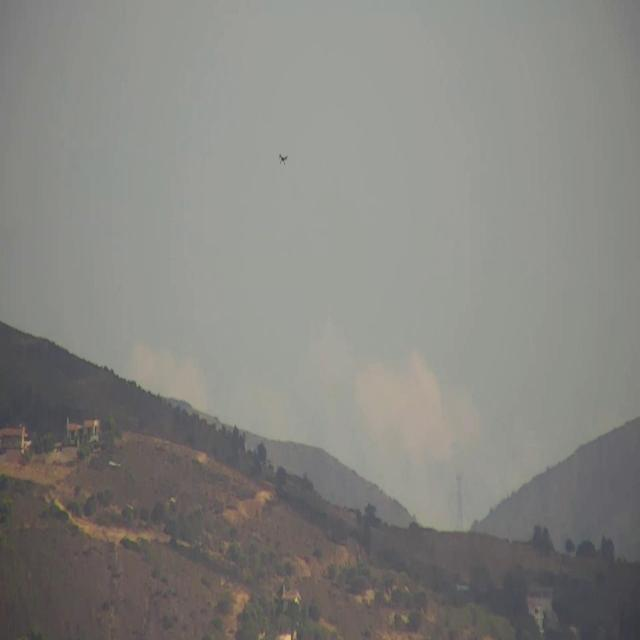drone: (278, 148, 290, 168)
